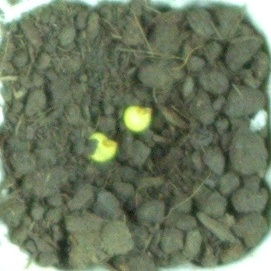chilli seed: (82, 131, 120, 164), (122, 104, 154, 133)
